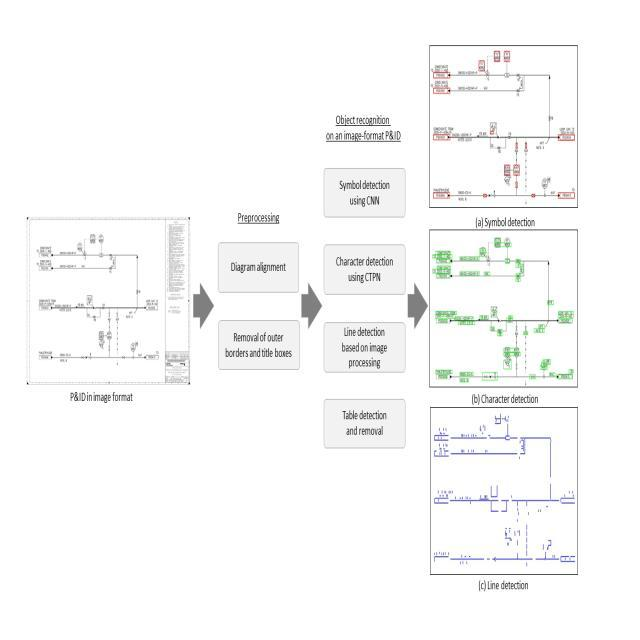Ball Valve: (507, 134, 512, 142)
